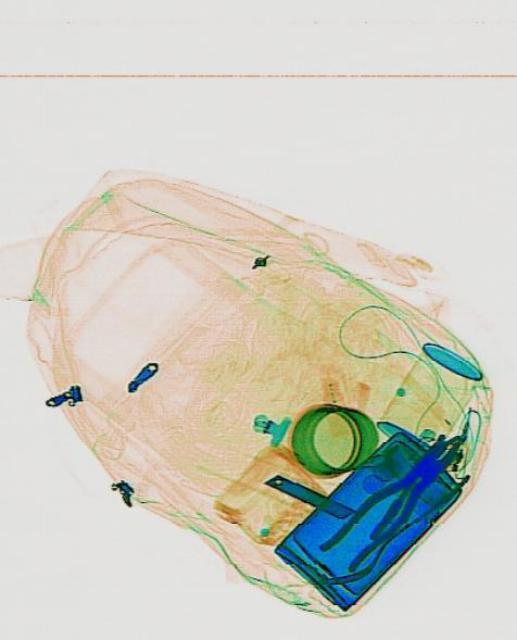Pliers: (312, 416, 472, 582)
